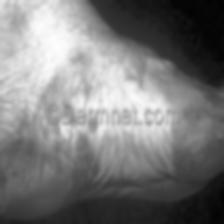Non-Cancerous Skin Condition: (0, 133, 104, 205), (160, 92, 224, 172)
